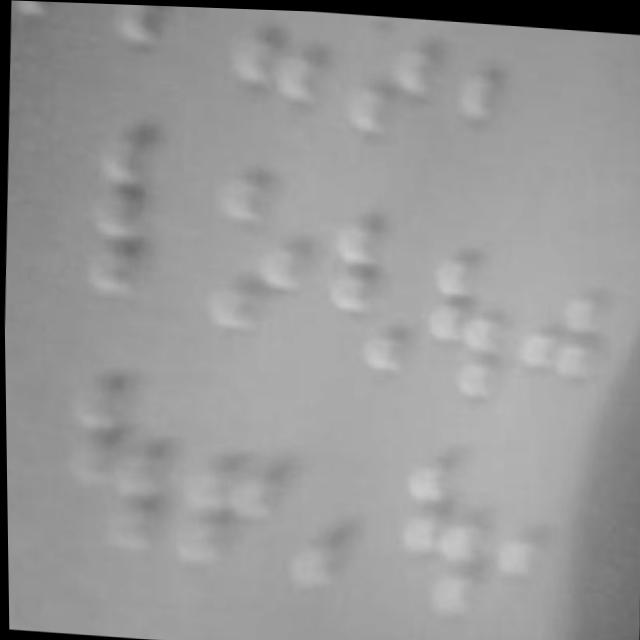braiile: (408, 221, 510, 407), (388, 438, 488, 624), (204, 168, 308, 340), (183, 396, 279, 577), (70, 370, 169, 544), (298, 416, 392, 594), (84, 138, 182, 302), (315, 204, 406, 372), (333, 10, 438, 142), (231, 7, 321, 101), (114, 3, 216, 54), (13, 0, 118, 32)
